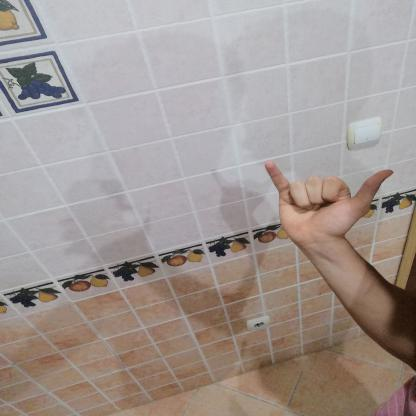YA: (249, 152, 410, 254)
